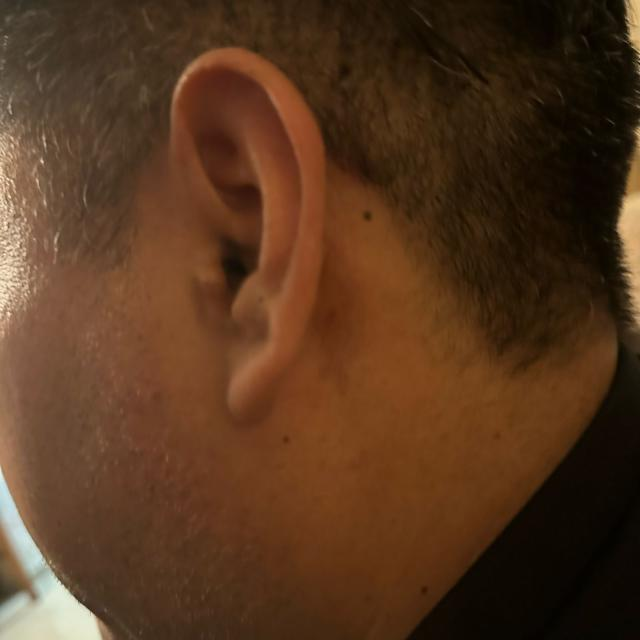ear: (168, 48, 326, 424)
